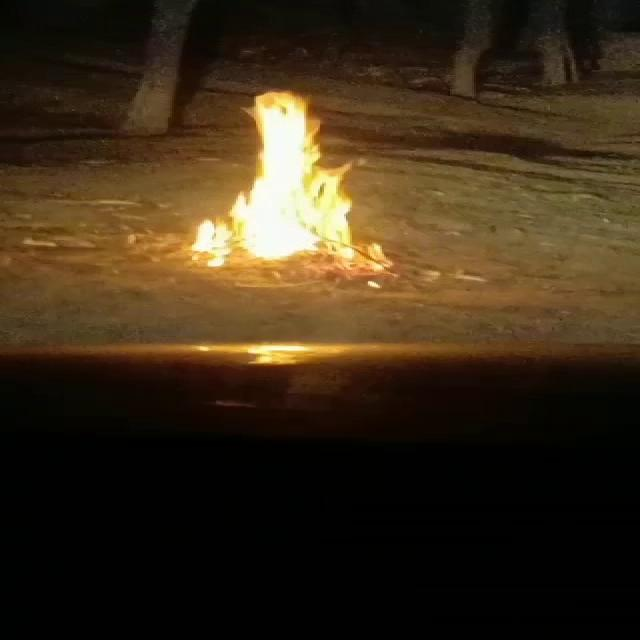Fire: (198, 91, 386, 282)
